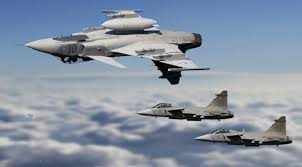fighter: (22, 8, 214, 86), (134, 88, 236, 122), (192, 115, 296, 147)
